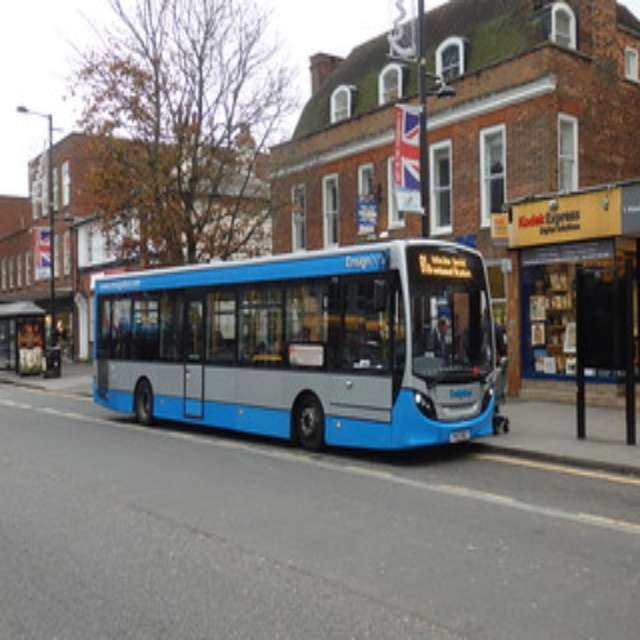Bus: (86, 237, 496, 451)
